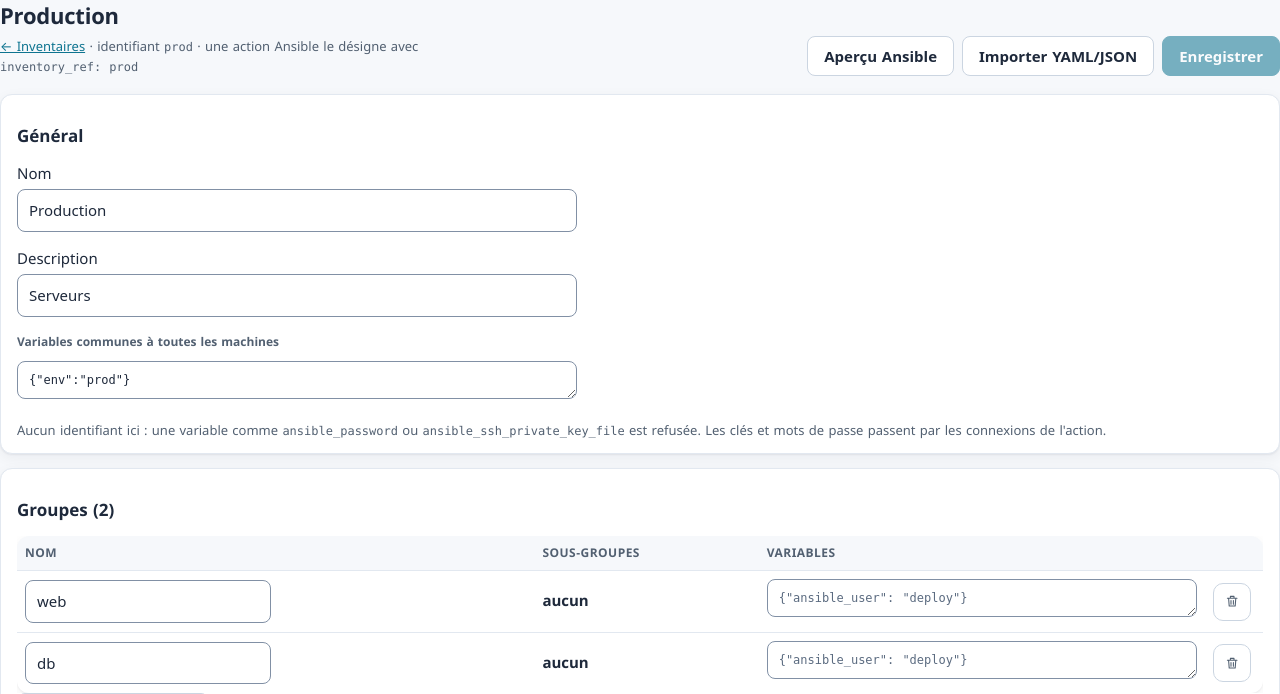
Test: Inventaire : aperçu › dit clairement qu'aucune machine n'est active
The width and height of the screenshot is (1280, 694).
Step 1. Click the button "Aperçu Ansible" → (881, 56), box [807,36,954,76]
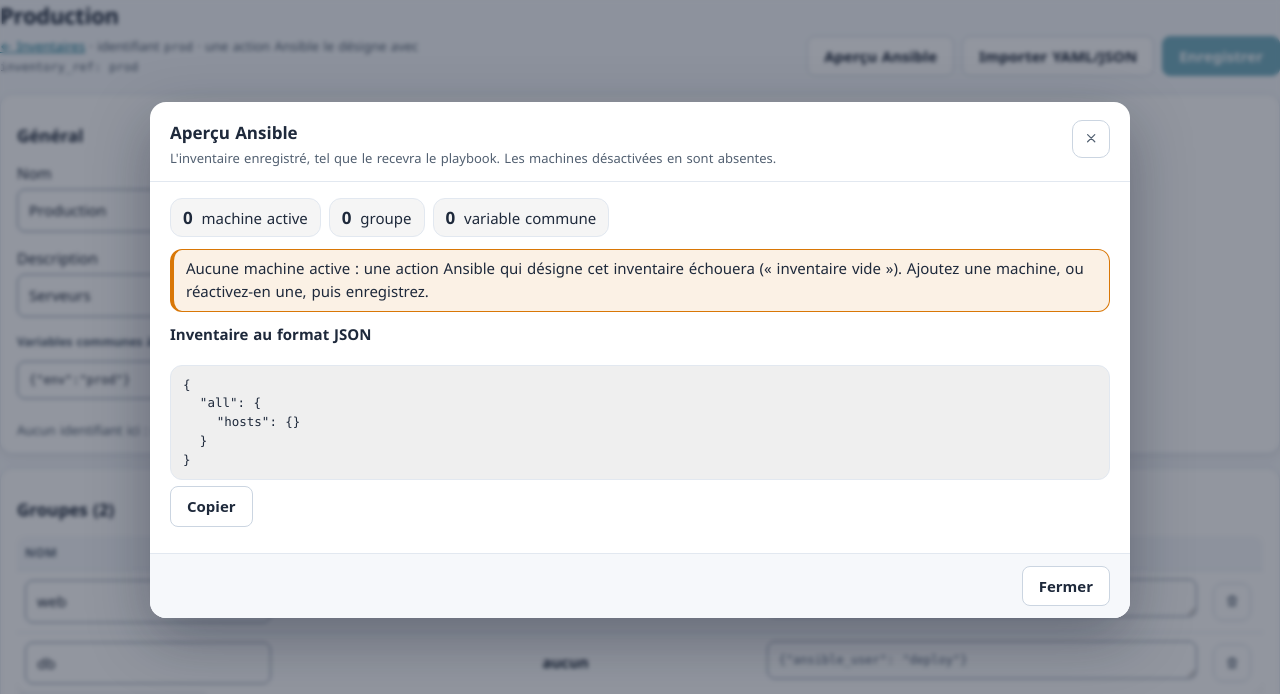
Result: the text "Aucune machine active" is shown at [186,259,1084,302]
Result: the list item "machine active" is shown at [170,198,321,237]
